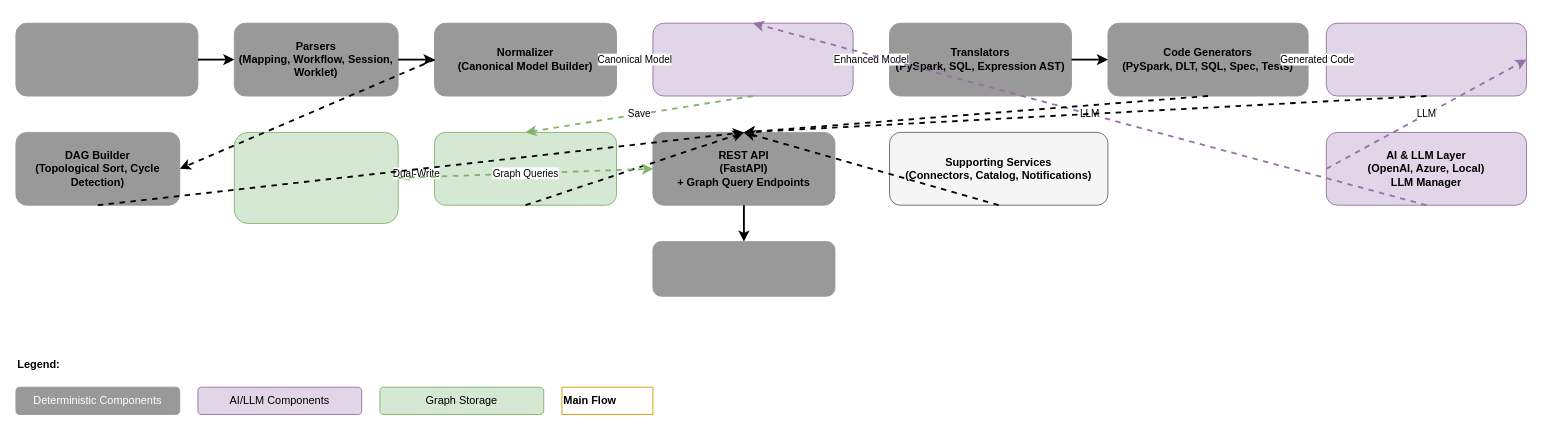
The diagram is 1551 pixels wide and 430 high, and some of its shapes have lost their labels. The shapes that lost their labels are listed below. From the top down, each one's box as (x1, y1, x2, y2) in pixels, then its label:
(15, 22, 198, 96): Informatica XMLs (Mapping, Workflow, Session, Worklet)
(652, 22, 853, 96): AI Enhancement Agents (Model Enhancement, Validation) Enhance Canonical Model
(1325, 22, 1527, 96): AI Review Agents (Code Fix, Risk Assessment) Review Generated Code
(233, 131, 398, 223): Graph Store (Neo4j) Cross-Mapping Lineage Impact Analysis
(434, 131, 617, 205): Version Store (JSON + Neo4j Graph) Graph-First Mode
(652, 241, 835, 296): Frontend UI (React + Vite)
